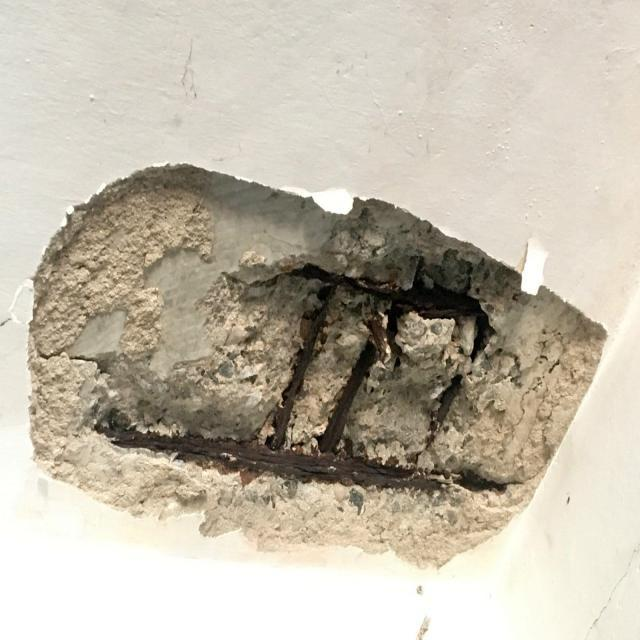Spalling: (28, 165, 605, 565)
corrosion: (111, 430, 450, 489), (270, 286, 334, 449), (319, 340, 377, 452)
